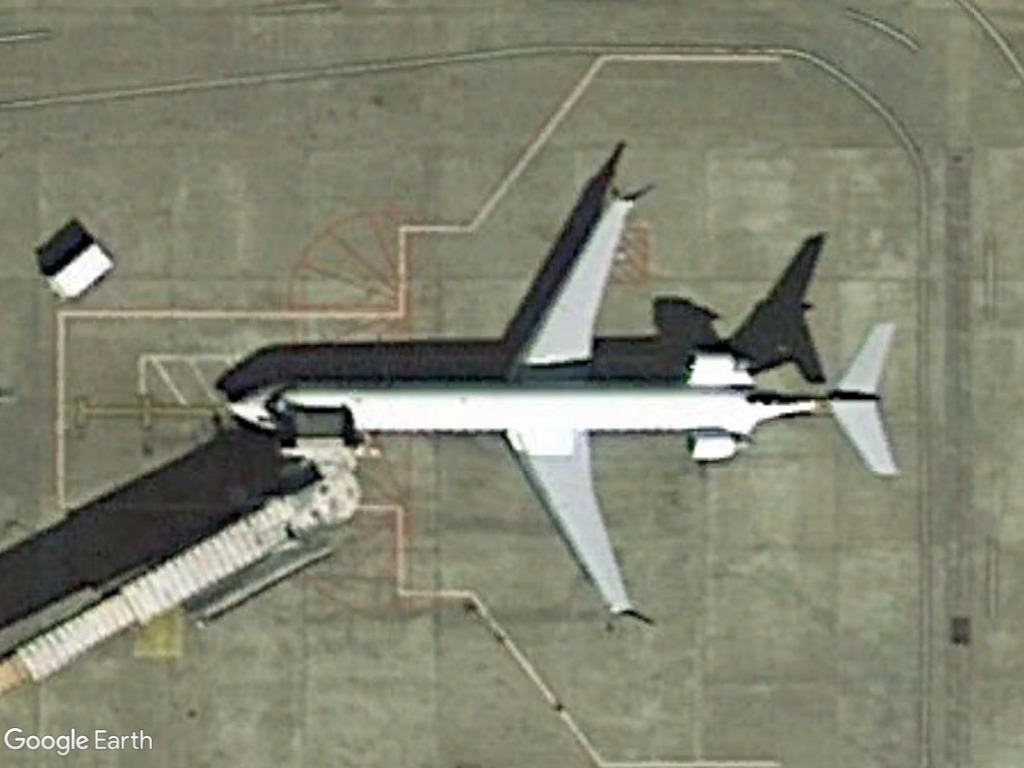chartered: (218, 182, 903, 628)
